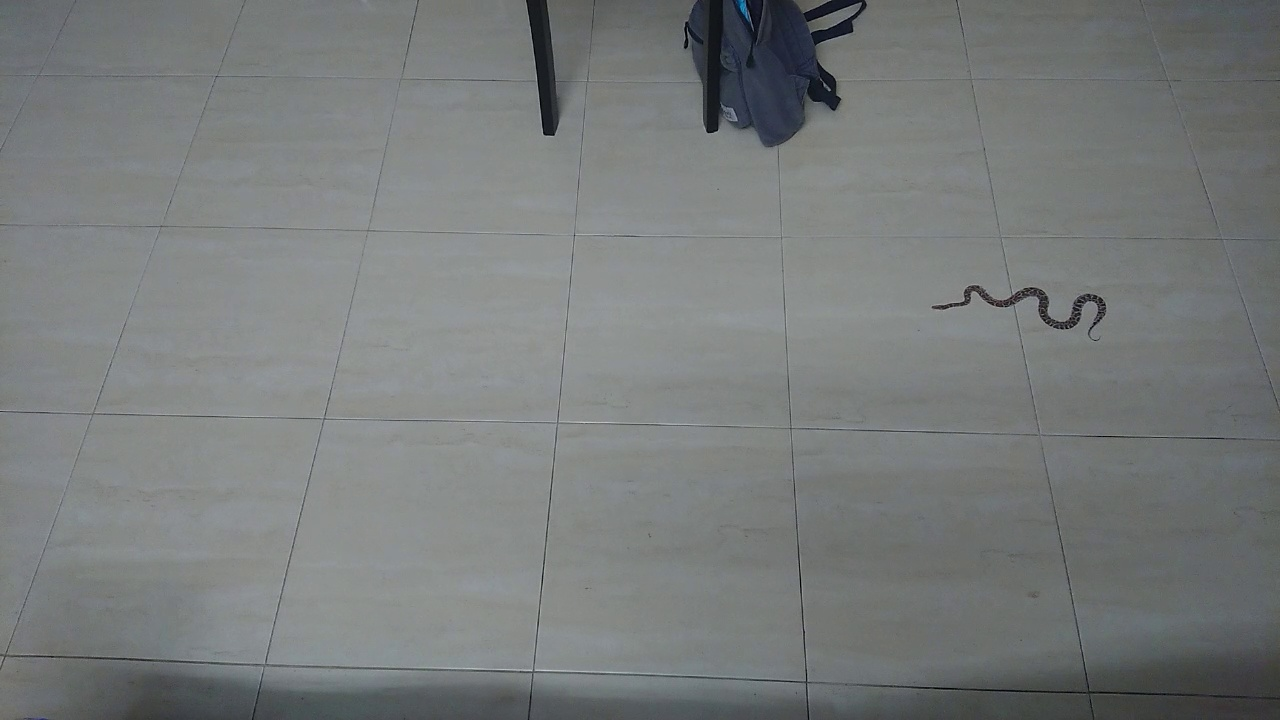snake: (917, 268, 1120, 350)
